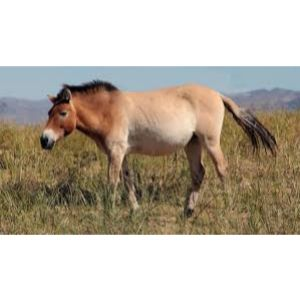horse: (38, 79, 277, 217)
